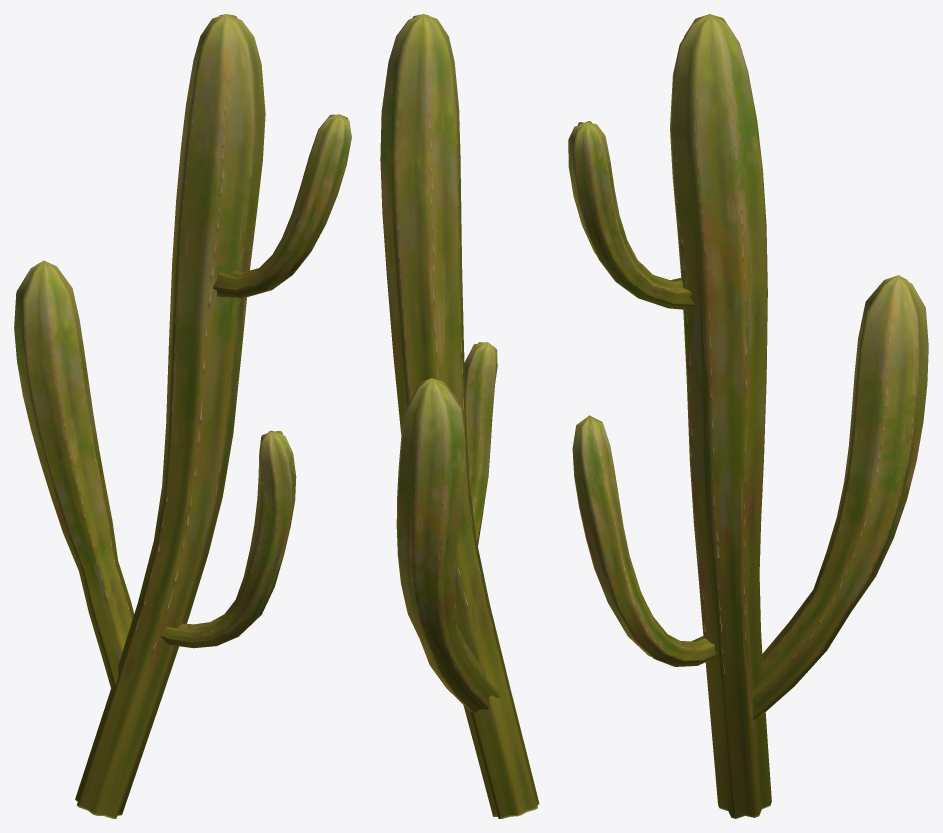
File: P_Cactus05.obj
The picture shows the model from 3 angles, left to right: view 1: azimuth 30°, elevation 25°; view 2: azimuth 150°, elevation 25°; view 3: azimuth 270°, elevation 25°; orthographic projection. The views are drawn at different scales.
Size of the model in its own units: 2.56 by 9.62 by 3.68.
